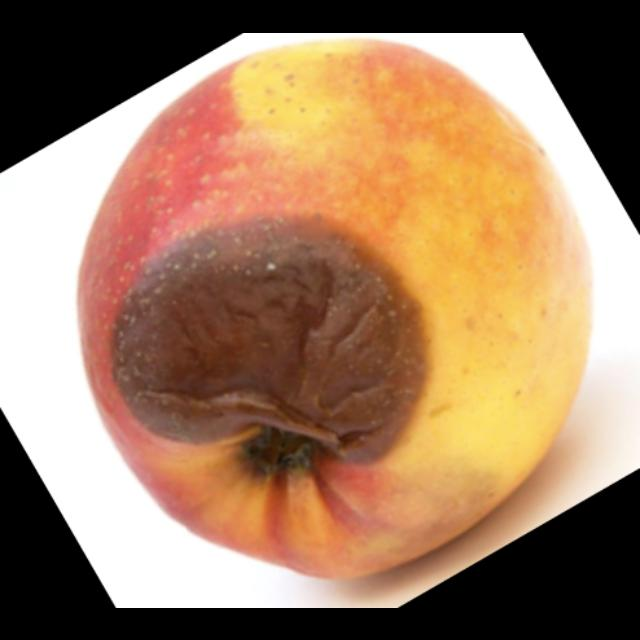Apel Tidak Segar: (60, 38, 584, 582)
